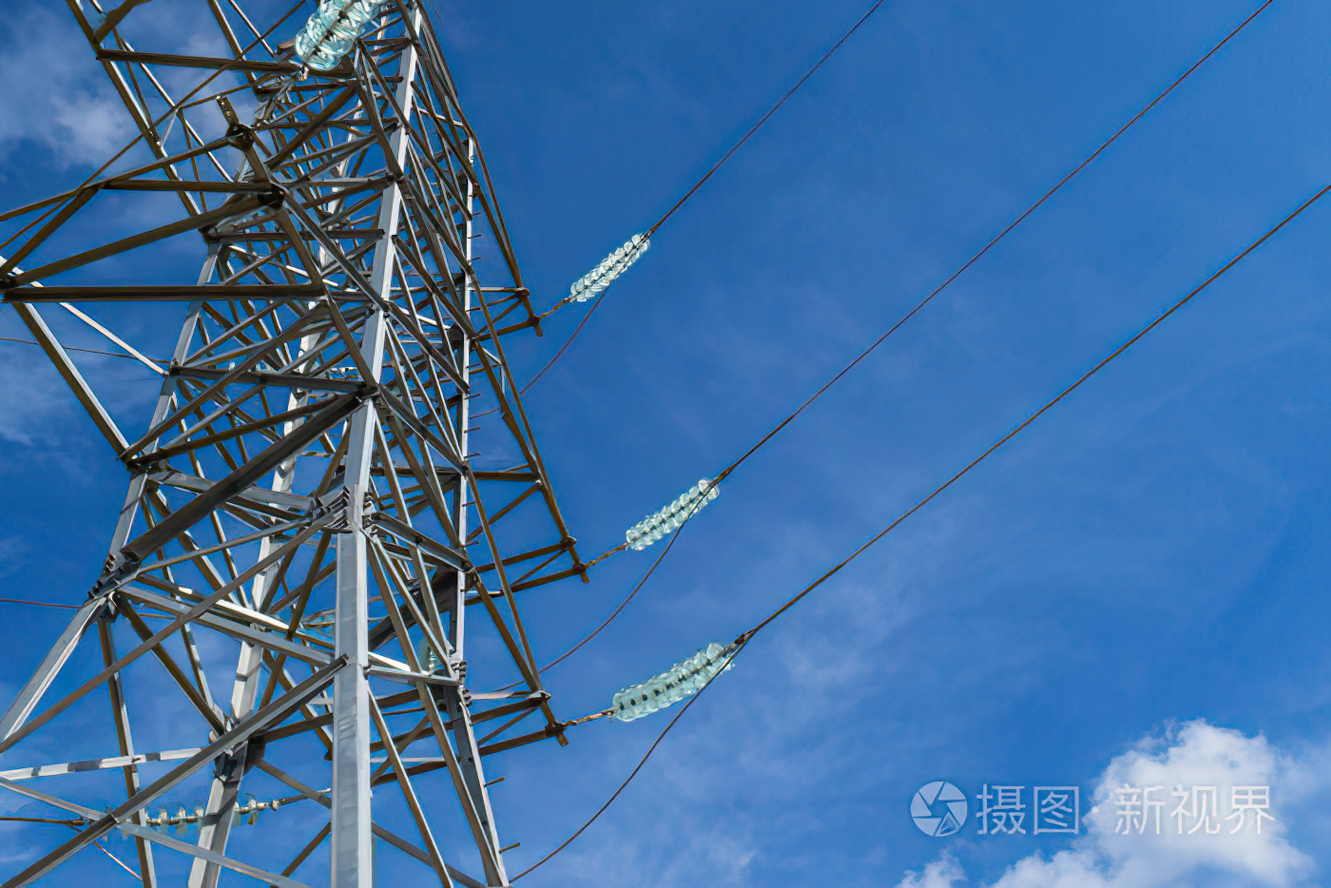insulator: (612, 640, 726, 724), (107, 792, 264, 840), (626, 478, 717, 550), (567, 232, 650, 306), (292, 1, 373, 73)
